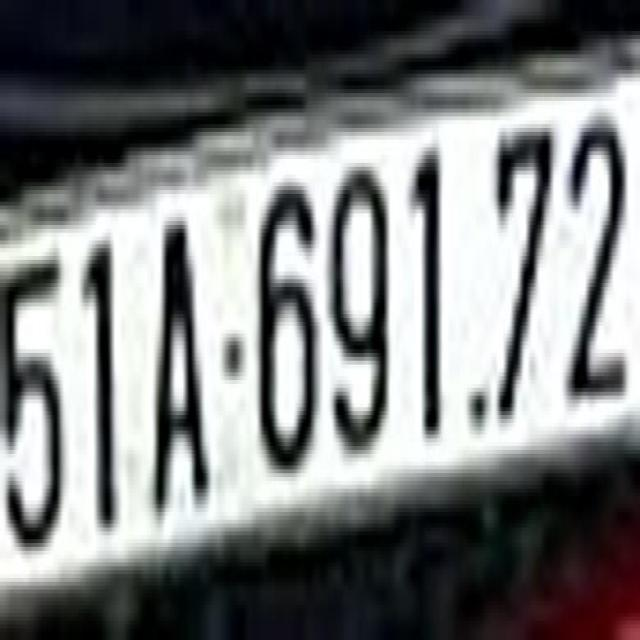1: (409, 147, 444, 450), (82, 225, 116, 527)
2: (566, 109, 628, 415)
5: (0, 248, 64, 543)
6: (260, 178, 314, 470)
7: (494, 112, 555, 419)
9: (334, 163, 391, 450)
A: (157, 202, 206, 512)
